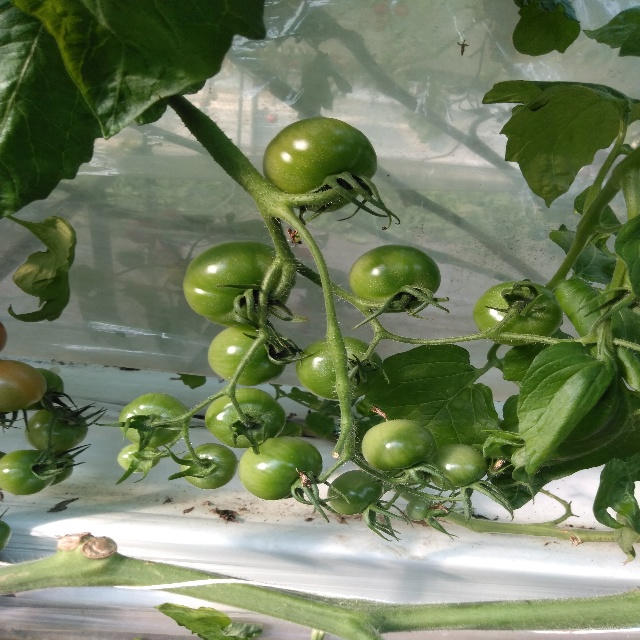l_green: (262, 115, 377, 213), (183, 240, 297, 329), (348, 244, 442, 313), (472, 280, 564, 347), (237, 435, 322, 501), (296, 336, 381, 401), (206, 324, 288, 386), (205, 387, 286, 449), (117, 392, 190, 448), (360, 418, 435, 472), (25, 406, 90, 452), (427, 443, 487, 491), (179, 443, 237, 490), (327, 469, 385, 515), (0, 449, 56, 496), (26, 367, 64, 411), (117, 443, 162, 473), (47, 450, 73, 487), (405, 499, 430, 521)
l_half_ripened: (0, 359, 47, 413)
